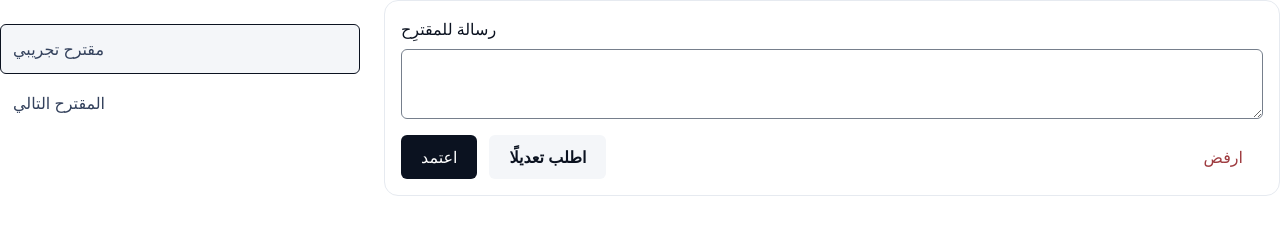
Test: DecisionCard › an empty message on «اطلب تعديلًا» is said at the box
Click the button "اطلب تعديلًا" at (548, 157), box [490,135,606,179]
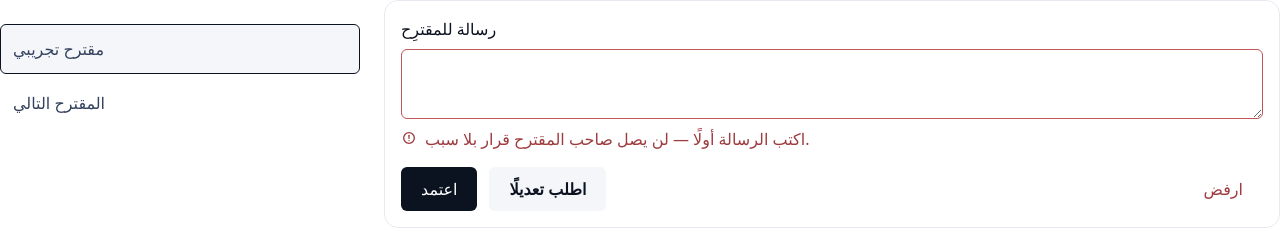
Check: the text "اكتب الرسالة أولًا — لن يصل صاحب المقترح قرار بلا سبب." is shown, box [425,127,810,151]
